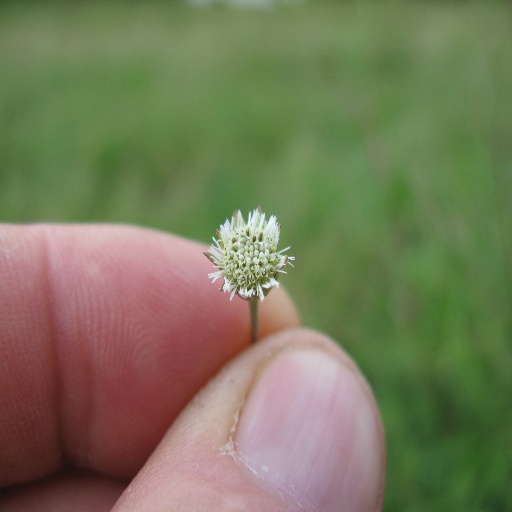hand: (0, 217, 388, 511)
